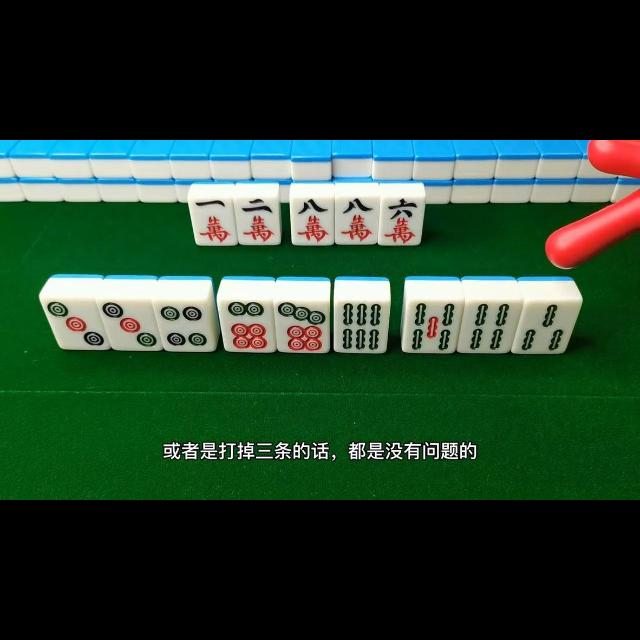b3: (518, 302, 572, 352)
b4: (462, 302, 510, 352)
b5: (408, 301, 458, 354)
b6: (336, 300, 386, 354)
c1: (190, 192, 234, 245)
c2: (235, 196, 279, 244)
c6: (381, 196, 419, 244)
c8: (291, 197, 331, 246), (337, 196, 377, 244)
d3: (42, 296, 104, 350), (99, 298, 160, 352)
d4: (156, 300, 212, 352)
d6: (222, 299, 270, 353)
d7: (274, 301, 328, 351)
